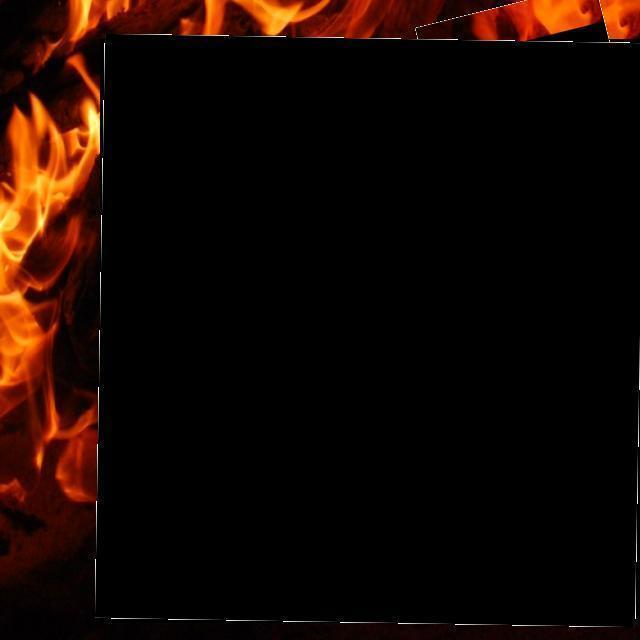Fire: (5, 100, 100, 230)
